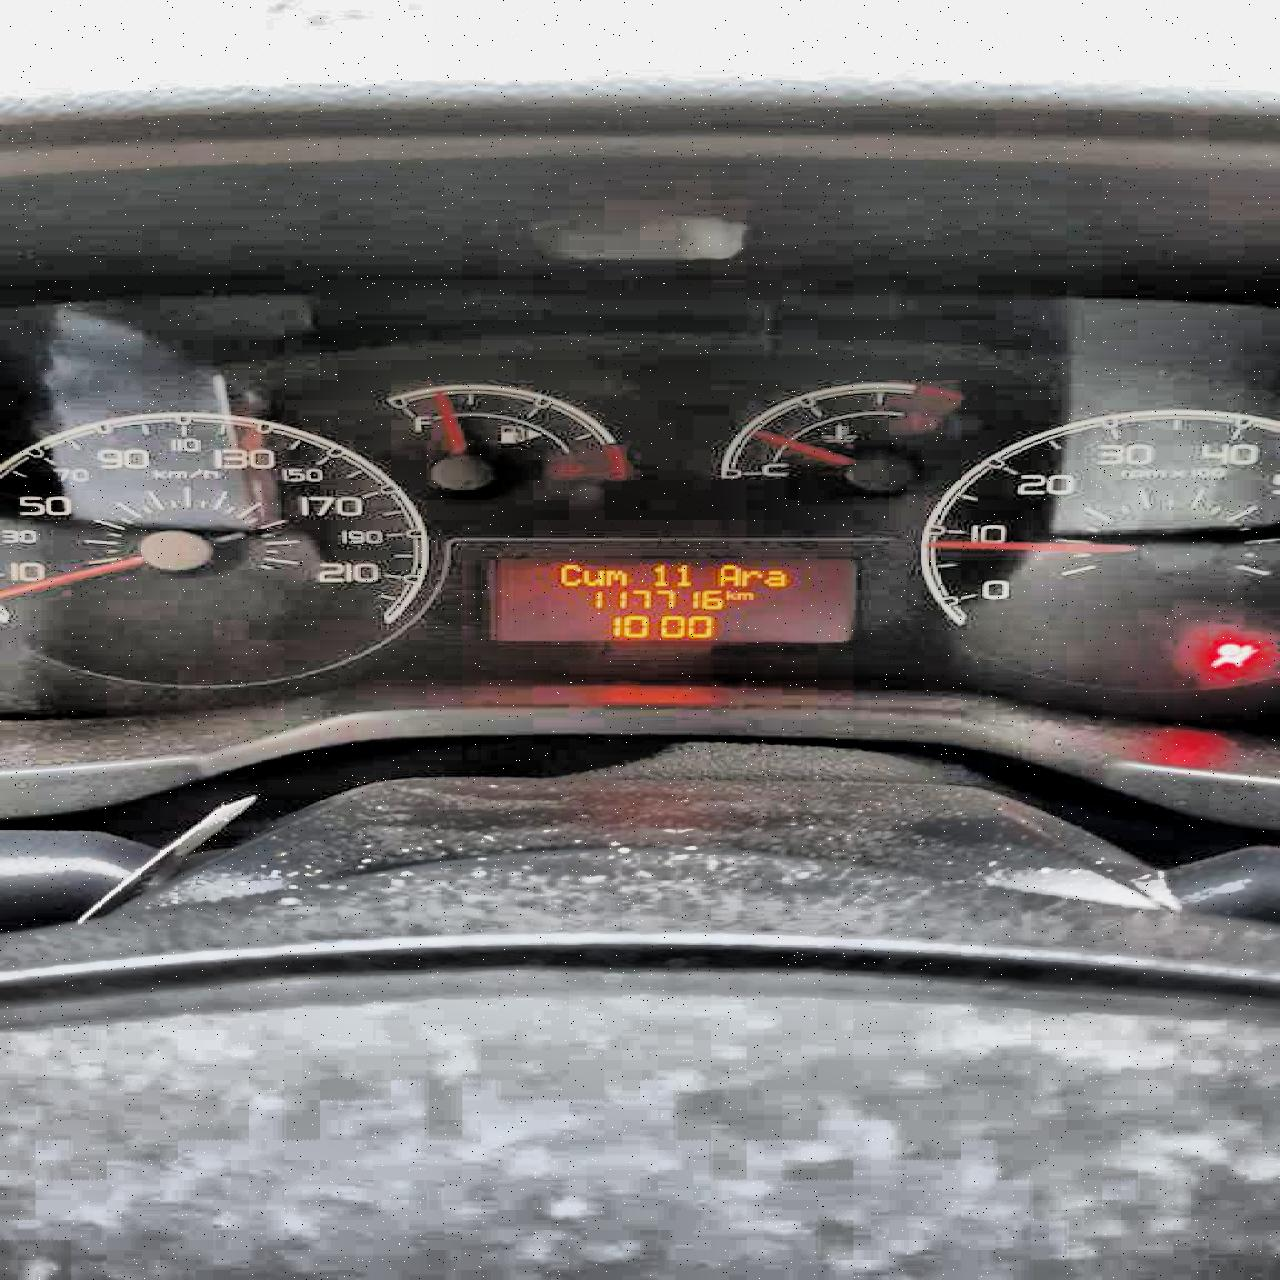0: (620, 613, 647, 638), (655, 613, 682, 638), (685, 613, 712, 638)
1: (673, 563, 692, 586), (651, 563, 669, 586), (591, 588, 602, 610), (610, 614, 620, 638), (615, 588, 626, 610), (689, 588, 700, 610)
6: (700, 588, 722, 610)
7: (654, 588, 675, 610), (629, 588, 651, 607)
X: (556, 563, 580, 586), (715, 563, 737, 586), (602, 568, 627, 586), (762, 568, 787, 585), (737, 568, 762, 585), (580, 568, 605, 585), (734, 590, 754, 599), (722, 590, 734, 600)
odometer: (486, 557, 858, 644)
